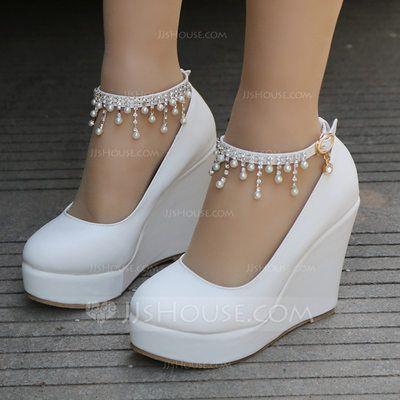cuero: (20, 81, 360, 335)
